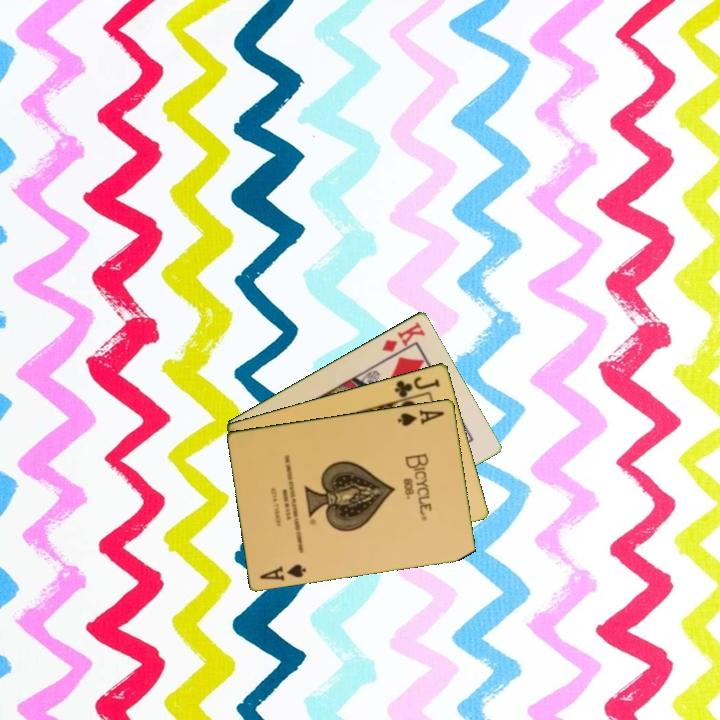As: (256, 560, 309, 584), (395, 406, 447, 429)
Jc: (391, 372, 443, 400)
Kd: (378, 318, 428, 355)
